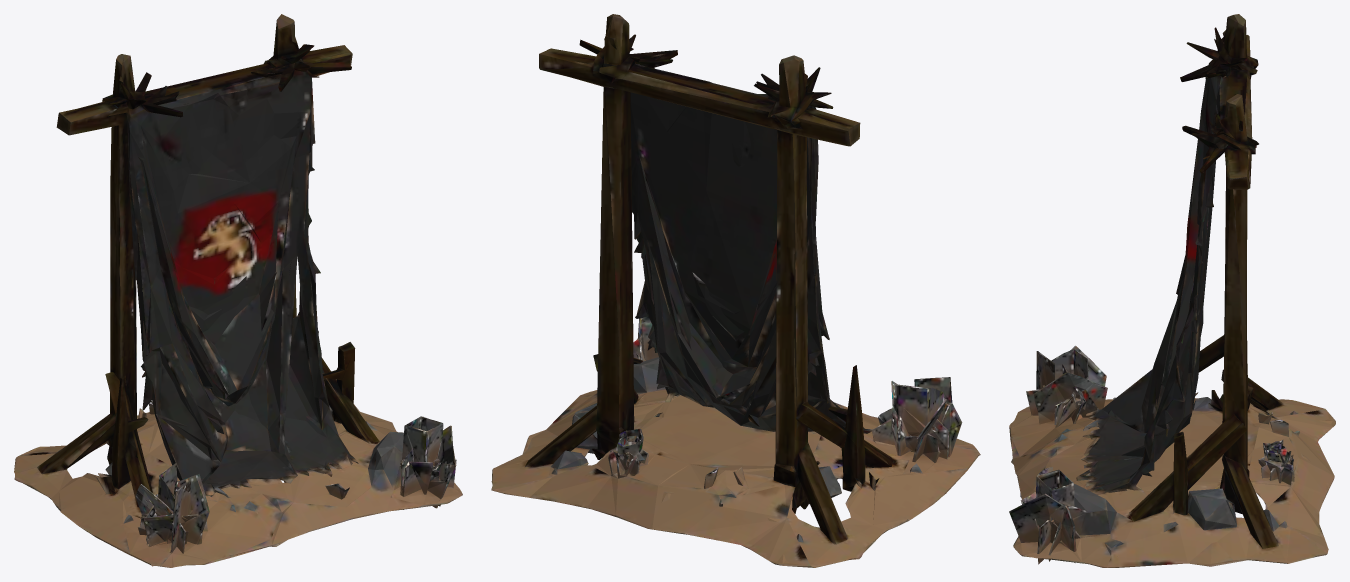
File: war_kingdom_banner_01.glb
3 views of the same model, side by side, from view 1: azimuth 30°, elevation 25°; view 2: azimuth 150°, elevation 25°; view 3: azimuth 270°, elevation 25° (orthographic). The views are drawn at different scales.
Parts seen in each view (by area): view 1: geometry_0; view 2: geometry_0; view 3: geometry_0.
Part boxes in pixels (bbox=[...]): geometry_0: bbox=[14, 14, 462, 567]; geometry_0: bbox=[491, 14, 980, 567]; geometry_0: bbox=[1009, 14, 1335, 567].
Bounding box in the file's own units: 0.8383 × 0.9997 × 0.68.
Materials: 1 (1 with a texture image).
